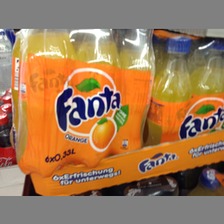soda: (19, 29, 75, 174), (74, 29, 119, 168), (114, 30, 155, 155), (147, 37, 192, 145), (192, 38, 224, 137)
